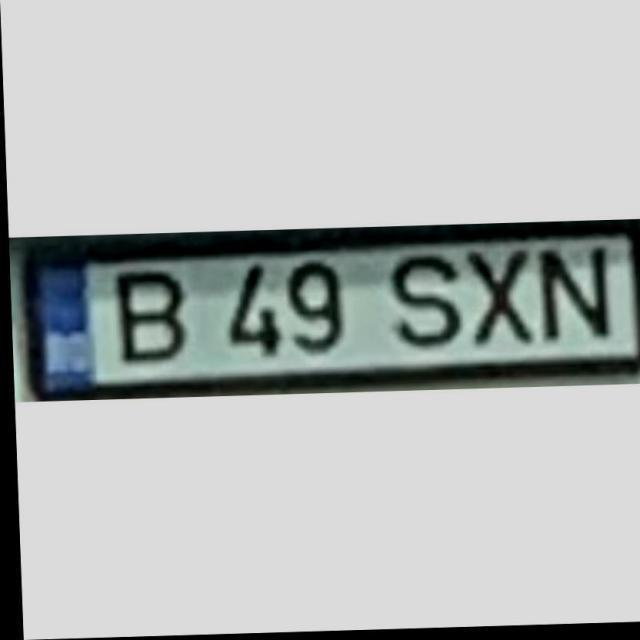license-plates: (10, 220, 640, 402), (22, 486, 102, 640)
